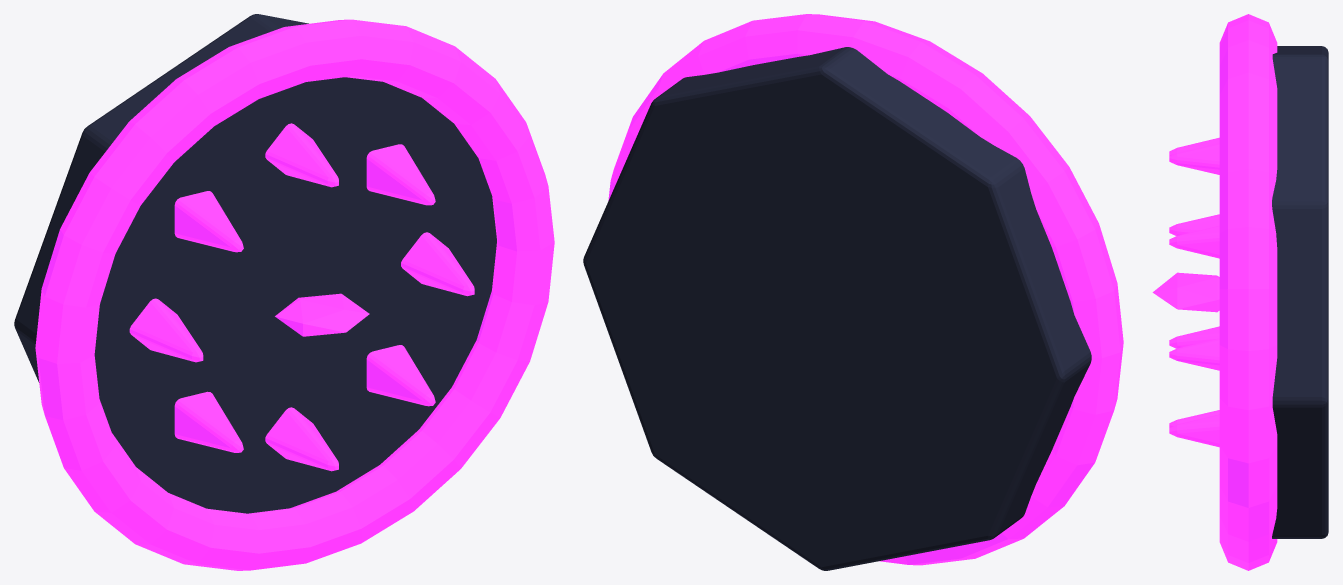
Rendered from epic_rune.glb.
3 renders of one model, left to right at view 1: azimuth 30°, elevation 25°; view 2: azimuth 150°, elevation 25°; view 3: azimuth 270°, elevation 25°, orthographic. The views are drawn at different scales.
Visible parts, largest first — view 1: RuneBody.003, Torus.030, Star_05.003, Star_01.003, Star_03.003, Star_07.003, Core.003, Star_00.003, Star_04.003, Star_06.003, Star_02.003; view 2: RuneBody.003, Torus.030; view 3: Torus.030, RuneBody.003, Core.003, Star_01.003, Star_07.003, Star_00.003, Star_02.003, Star_05.003, Star_04.003, Star_03.003, Star_06.003.
Boxes of the visible parts, bbox=[...] form: RuneBody.003: bbox=[14, 14, 496, 513]; Torus.030: bbox=[35, 19, 554, 570]; Star_05.003: bbox=[174, 391, 243, 452]; Star_01.003: bbox=[366, 144, 435, 205]; Star_03.003: bbox=[174, 191, 243, 252]; Star_07.003: bbox=[366, 345, 435, 406]; Core.003: bbox=[275, 293, 369, 336]; Star_00.003: bbox=[401, 232, 474, 296]; Star_04.003: bbox=[129, 298, 203, 362]; Star_06.003: bbox=[265, 407, 338, 471]; Star_02.003: bbox=[265, 123, 338, 187]; RuneBody.003: bbox=[583, 47, 1091, 570]; Torus.030: bbox=[608, 14, 1123, 565]; Torus.030: bbox=[1219, 14, 1277, 570]; RuneBody.003: bbox=[1272, 46, 1328, 538]; Core.003: bbox=[1152, 272, 1219, 312]; Star_01.003: bbox=[1169, 225, 1219, 258]; Star_07.003: bbox=[1169, 414, 1219, 447]; Star_00.003: bbox=[1169, 338, 1219, 370]; Star_02.003: bbox=[1169, 143, 1219, 174]; Star_05.003: bbox=[1169, 326, 1219, 348]; Star_04.003: bbox=[1169, 214, 1219, 235]; Star_03.003: bbox=[1169, 137, 1219, 155]; Star_06.003: bbox=[1169, 410, 1219, 427].
Bounding box in the file's own units: 1.74 × 1.74 × 0.55.
